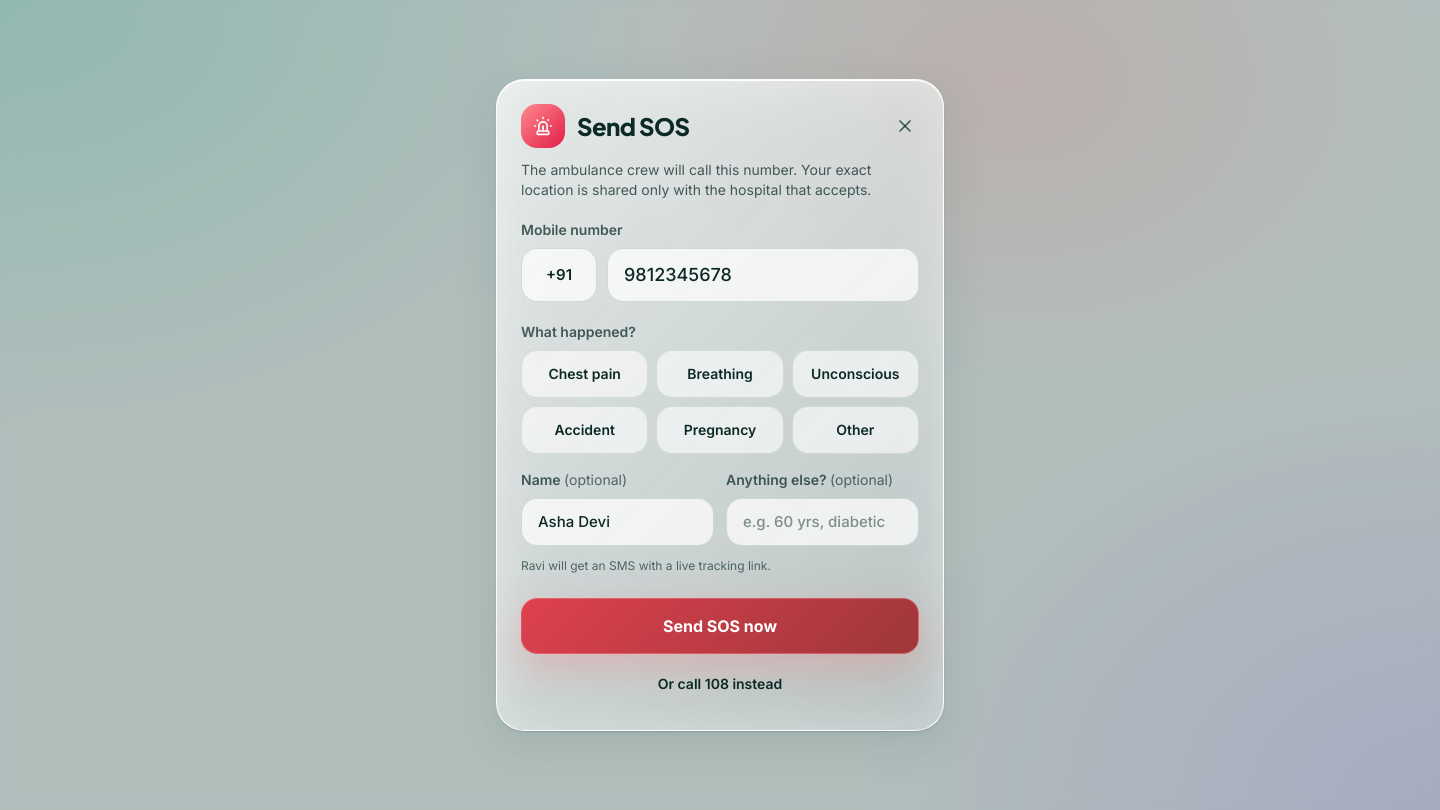
Test: SOS sheet quick buttons › tells serious cases we look for an ALS ambulance first, without promising to wait
Click the button "Unconscious".
click(855, 374)  # box [792,350,919,398]
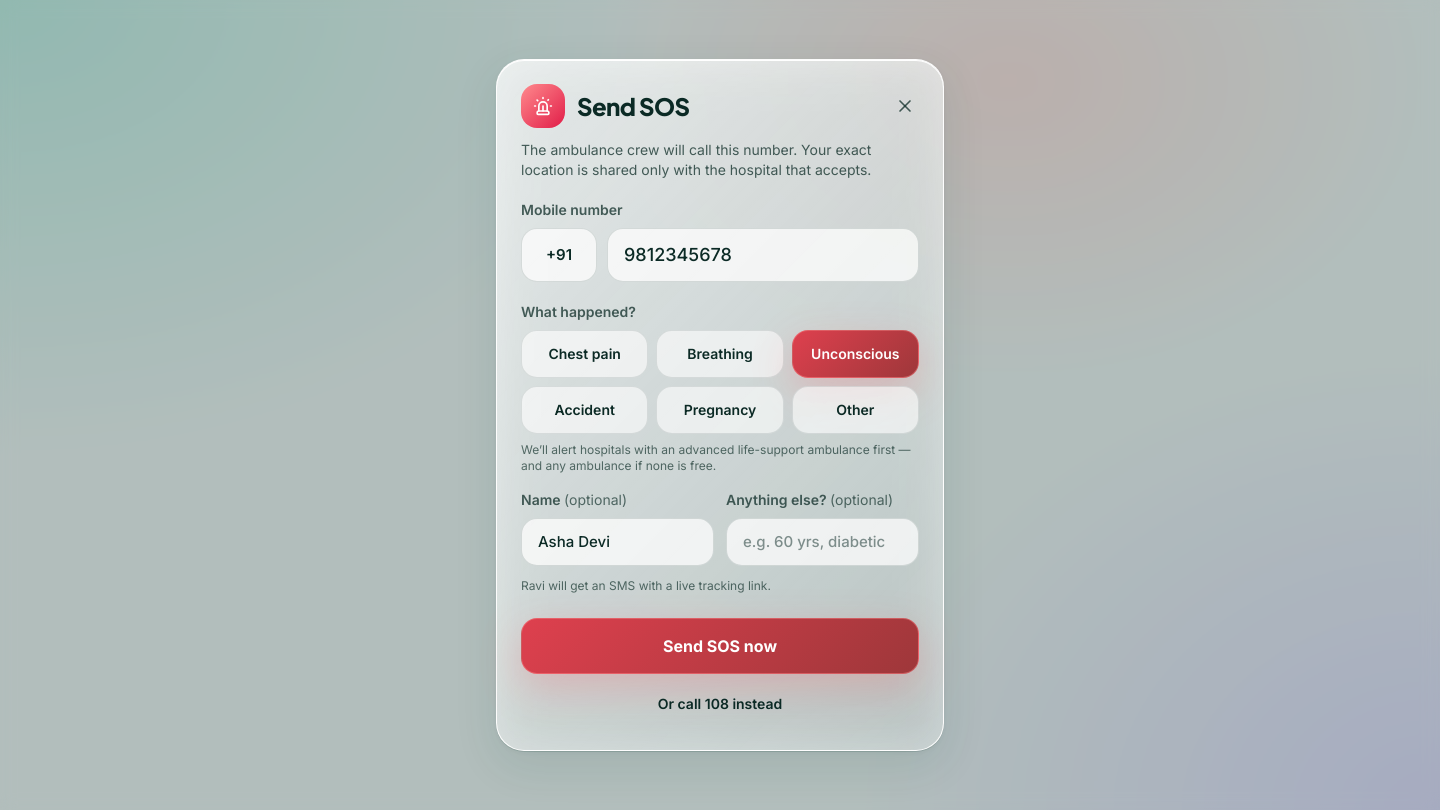
Expected: the text "advanced life-support ambulance first — and any ambulance if none is free" is shown, [521,442,911,473]
Click the button "Pregnancy".
click(720, 410)  # box [656,386,784,434]
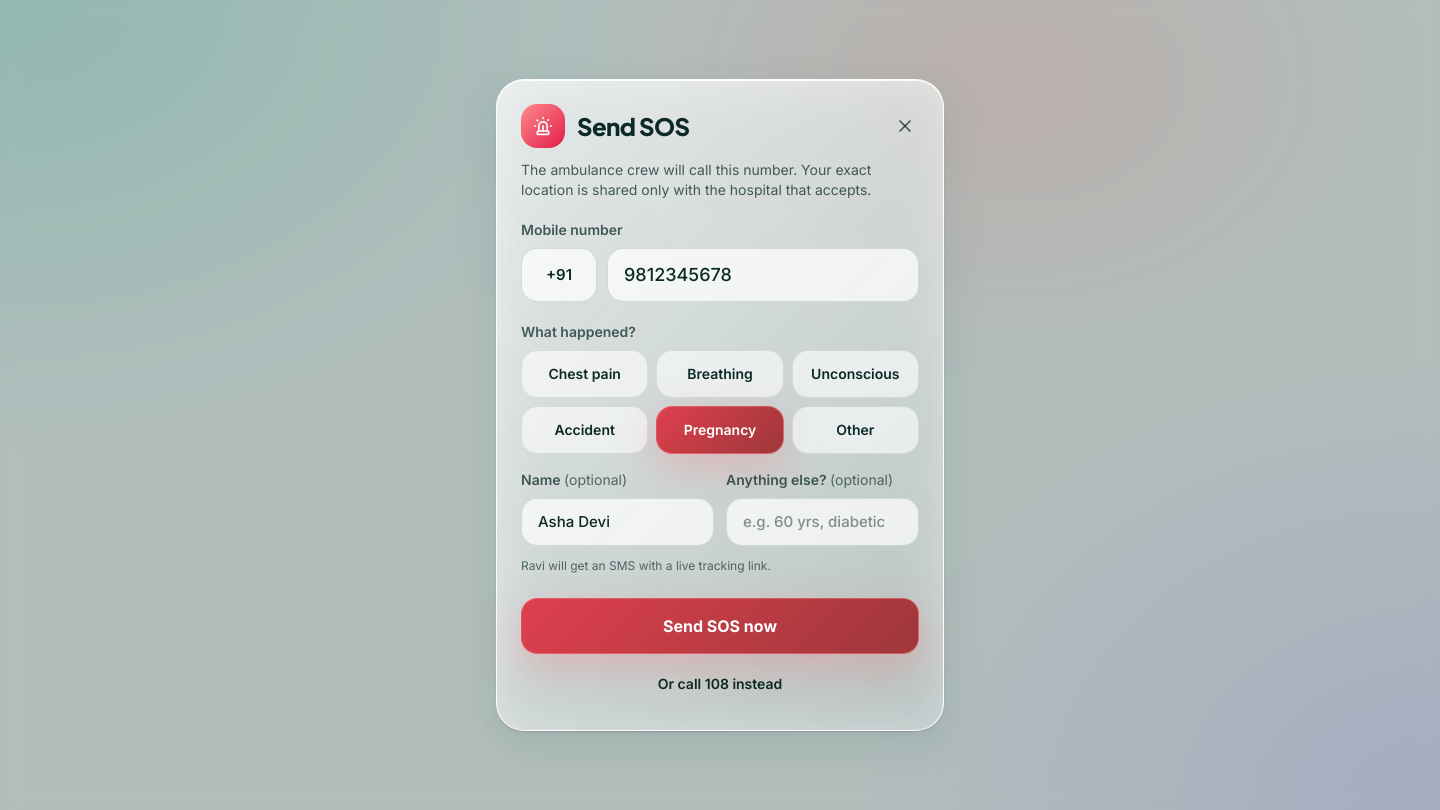
Expected: the text "advanced life-support" is gone
